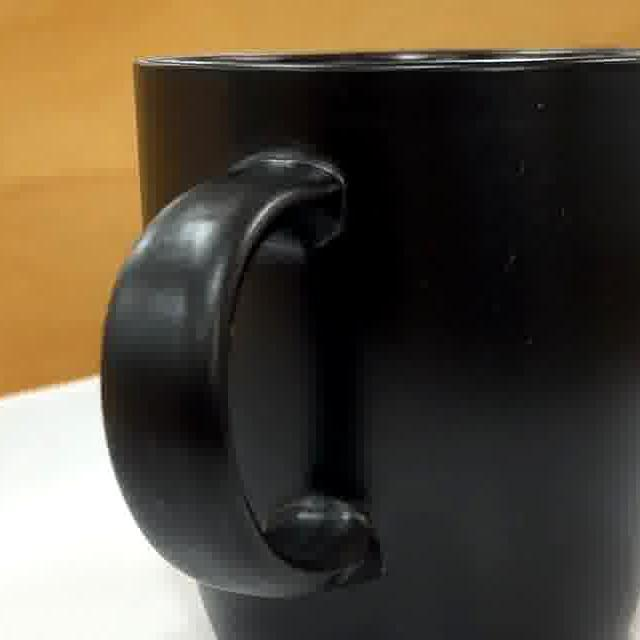cup: (102, 53, 640, 640)
